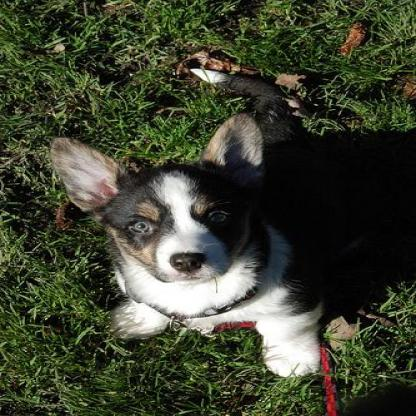Cardigan: (45, 66, 412, 378)
